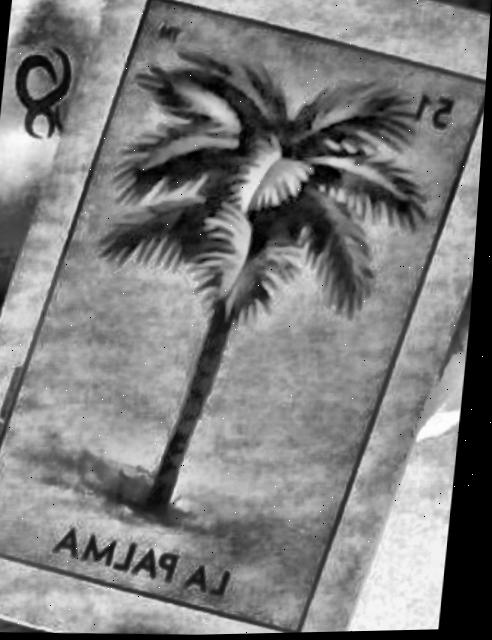La Palma: (0, 1, 487, 632)
